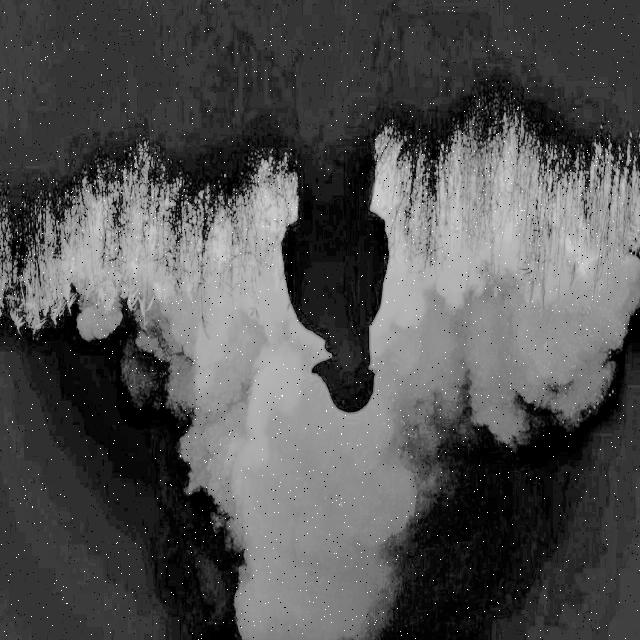api: (493, 126, 521, 240), (380, 145, 406, 229), (255, 185, 286, 231), (208, 227, 231, 271), (129, 251, 147, 282)
asap: (160, 396, 474, 640), (388, 256, 640, 434), (54, 297, 301, 425)
